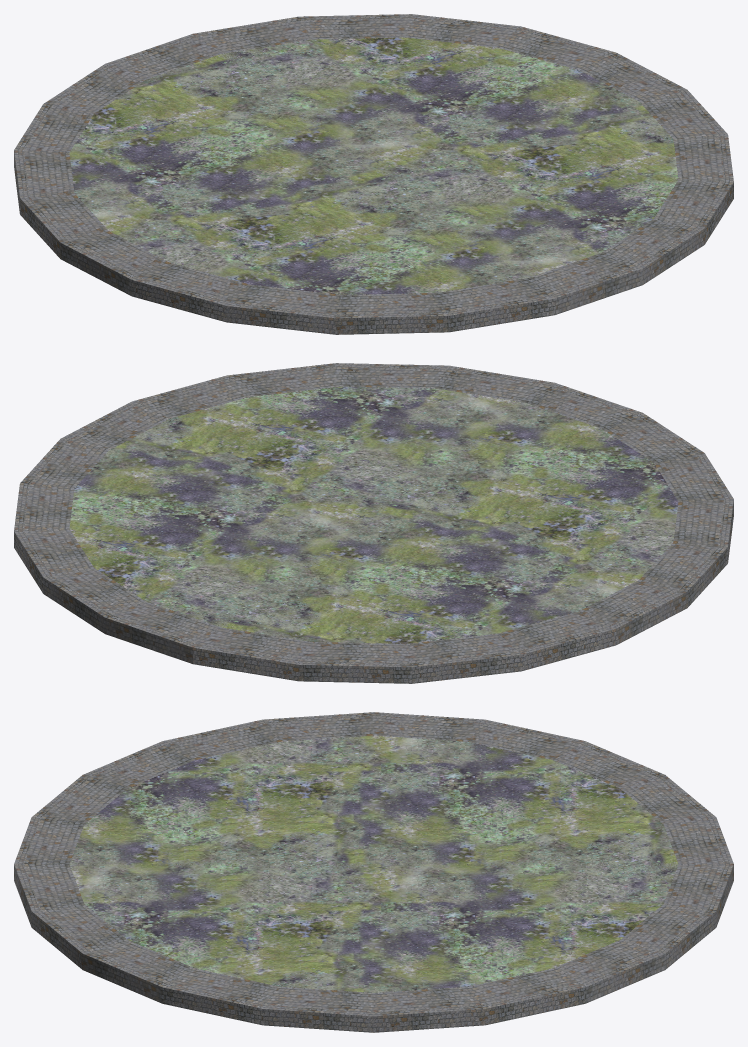
File: VillageCentreStone.dae
The picture shows the model from 3 angles, top to bottom: view 1: azimuth 30°, elevation 25°; view 2: azimuth 150°, elevation 25°; view 3: azimuth 270°, elevation 25°; orthographic projection.
Parts seen in each view (by area): view 1: meshU3D; view 2: meshU3D; view 3: meshU3D.
Boxes of the visible parts, x1,y1,x2,y2 form: meshU3D: (14,14,733,334); meshU3D: (14,363,733,683); meshU3D: (14,712,733,1032).
Bounding box in the file's own units: 1094 × 27.54 × 1094.
Materials: 2 (2 with a texture image).
